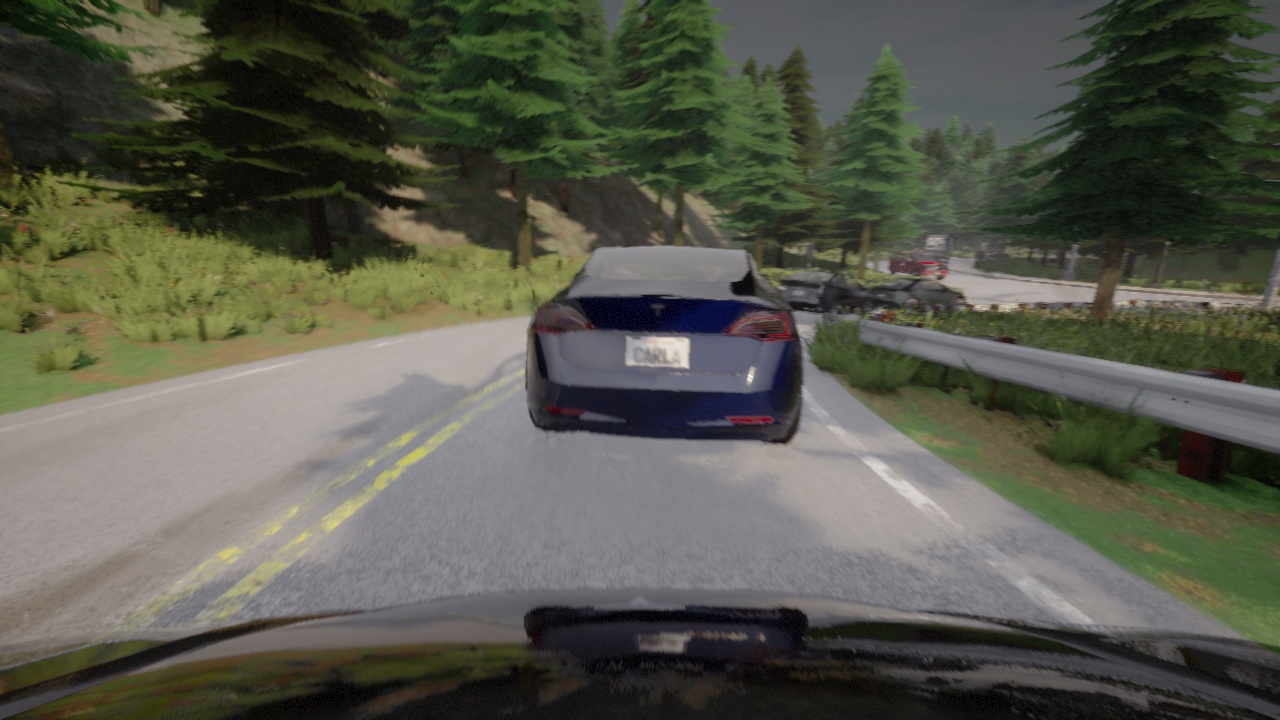cyclist: (0, 588, 1279, 719), (526, 245, 802, 444), (778, 271, 872, 322), (868, 277, 966, 308), (887, 251, 948, 280), (758, 273, 789, 307), (924, 234, 956, 262), (976, 248, 1010, 259)
